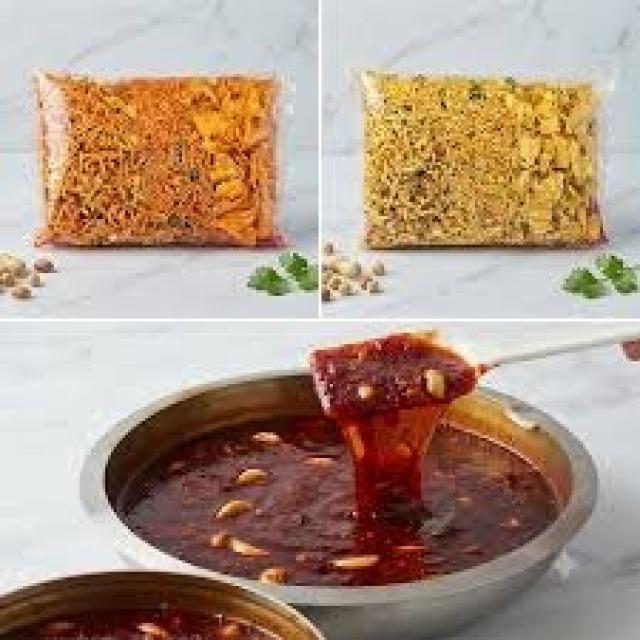Halwa: (104, 328, 575, 584), (0, 566, 324, 640)
